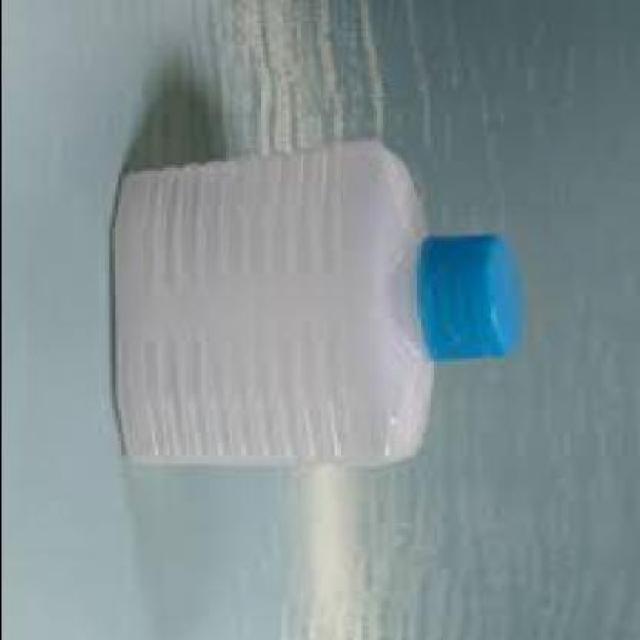PLASTIC: (114, 137, 517, 466), (419, 231, 523, 358)
